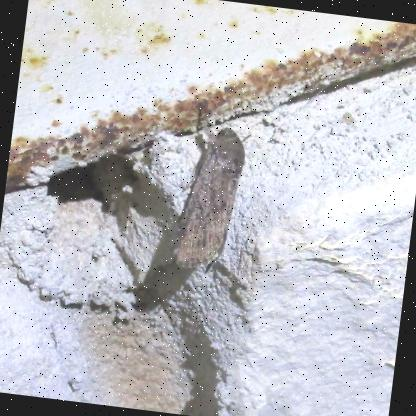Fall Armyworm Moth: (165, 104, 255, 278)
